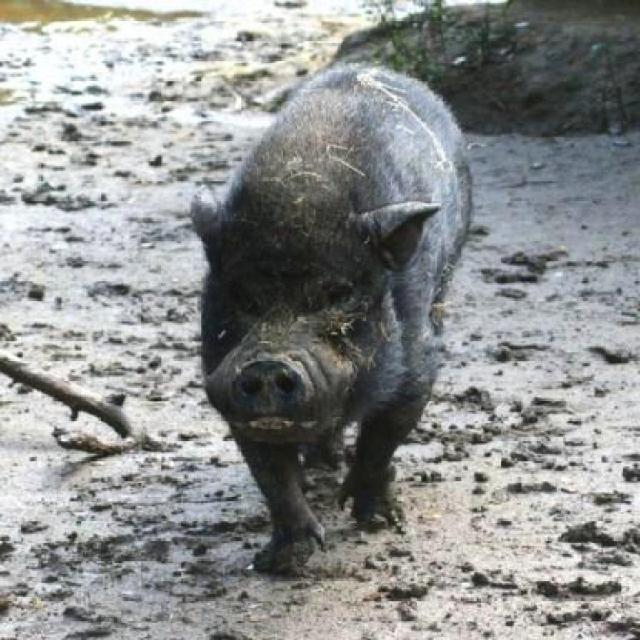Boar: (190, 58, 476, 576)
